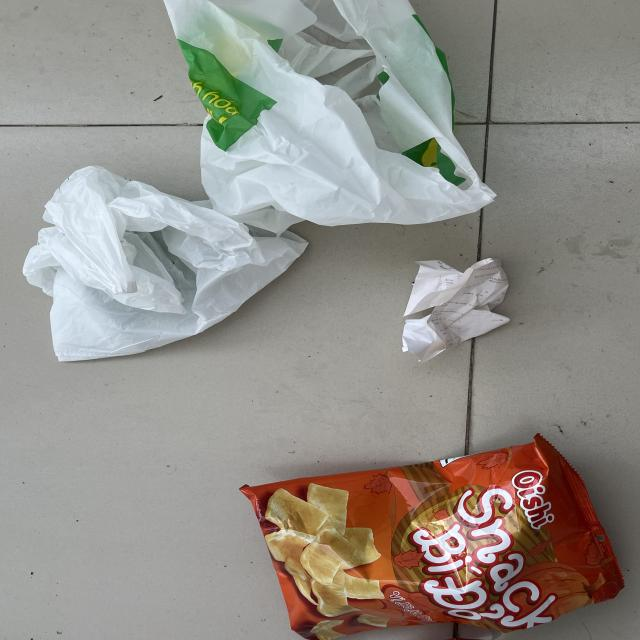bag: (159, 1, 497, 236), (22, 164, 311, 363)
paper: (401, 258, 513, 366)
snack package: (240, 433, 624, 640)
